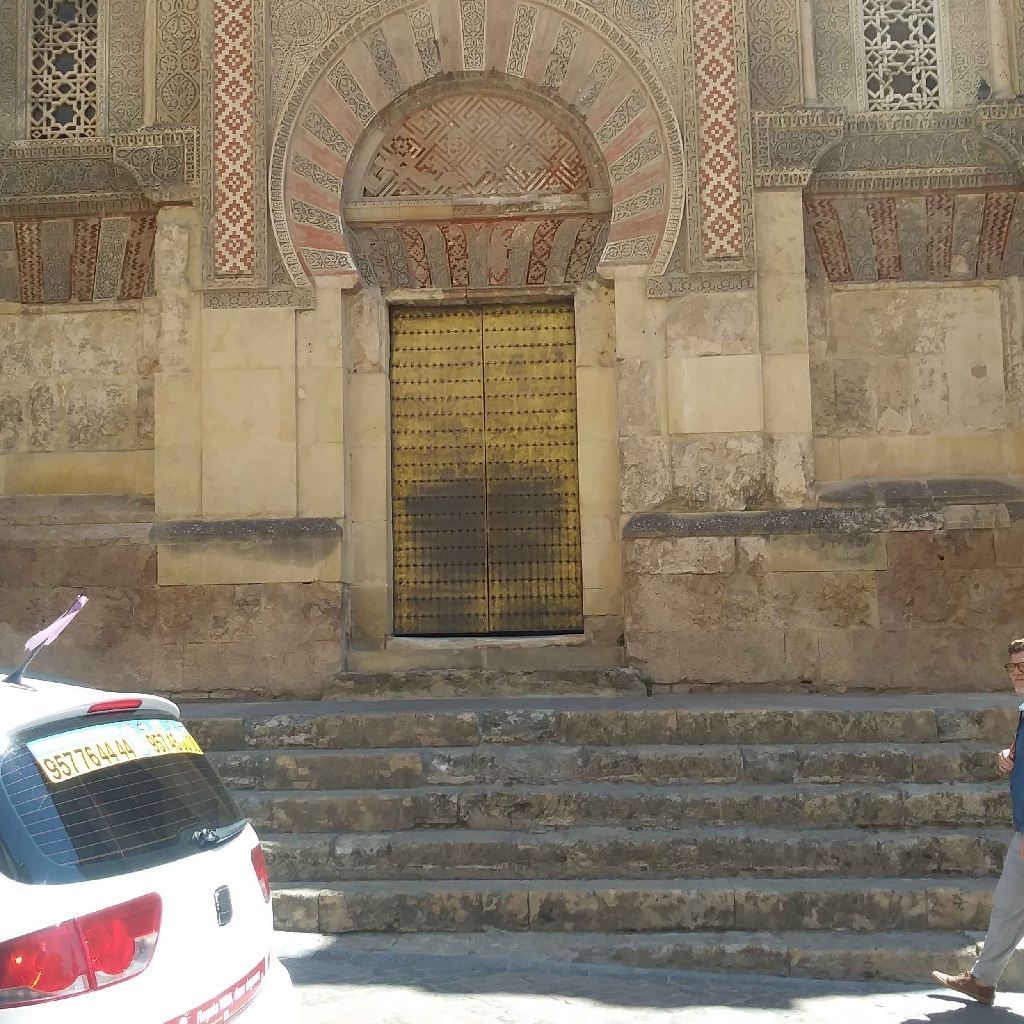arco-herradura: (313, 45, 638, 310)
dintel-adovelado: (342, 211, 602, 300), (802, 183, 1024, 283), (1, 202, 159, 308)
